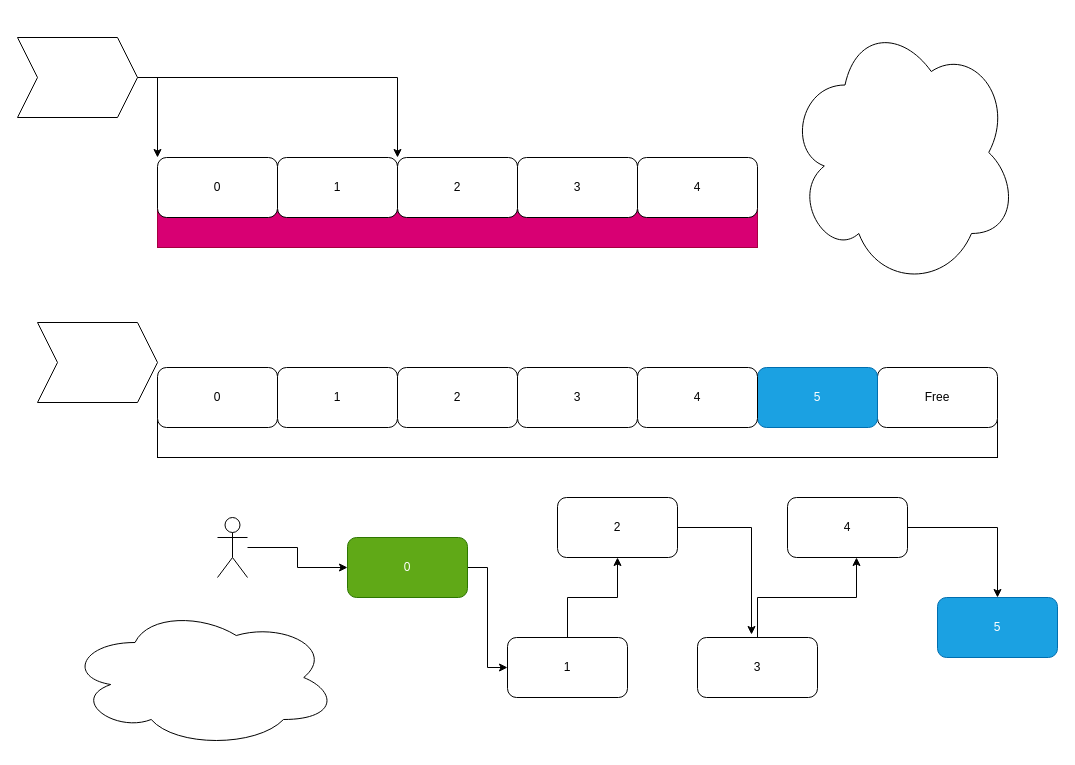
This 1075x765 diagram has some shape labels left out. The centre of each missing label's shape, as x and y in pixels:
Actor: the point at 232,547
ArrayPtr: the point at 77,77
Other Array: the point at 902,152
